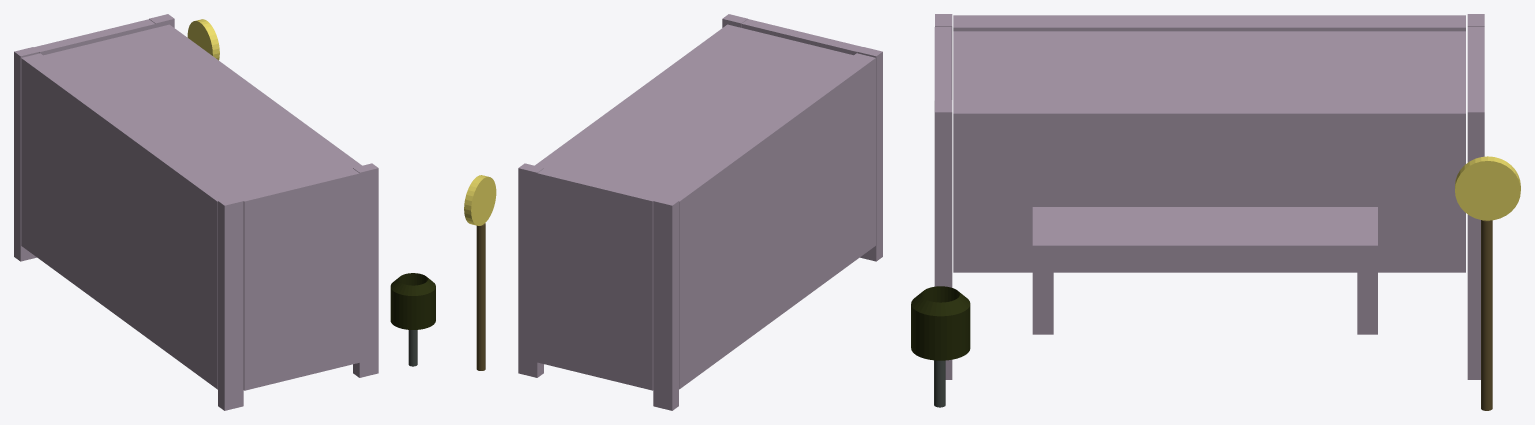
The model's file is busstopbettertry3.fbx.
The picture shows the model from 3 angles, left to right: view 1: azimuth 30°, elevation 25°; view 2: azimuth 150°, elevation 25°; view 3: azimuth 270°, elevation 25°; orthographic projection. The views are drawn at different scales.
Visible parts, largest first — view 1: Cube.007, Cube.008, Cube.001, Cube.006, Cube.004, Cylinder, Cube.005, Cube.002, Cylinder.003; view 2: Cube.007, Cube.008, Cube.002, Cube.005, Cube.003, Cube.006, Cylinder.002, Cylinder.003, Cube.001; view 3: Cube.007, Cube.008, Cube.009, Cylinder, Cube.004, Cylinder.003, Cube.003, Cube.010, Cube.011, Cylinder.002, Cube.001, Cube.002 (+1 smaller).
Part boxes in pixels (left/top/right/bottom): Cube.007: left=21, top=53, right=235, bottom=389; Cube.008: left=43, top=24, right=361, bottom=196; Cube.001: left=238, top=169, right=359, bottom=390; Cube.006: left=218, top=196, right=243, bottom=410; Cube.004: left=353, top=163, right=378, bottom=377; Cylinder: left=390, top=273, right=435, bottom=329; Cube.005: left=14, top=47, right=39, bottom=261; Cube.002: left=34, top=19, right=155, bottom=55; Cylinder.003: left=187, top=19, right=219, bottom=60; Cube.007: left=661, top=53, right=875, bottom=389; Cube.008: left=535, top=24, right=853, bottom=196; Cube.002: left=537, top=168, right=658, bottom=390; Cube.005: left=653, top=196, right=678, bottom=410; Cube.003: left=518, top=163, right=543, bottom=377; Cube.006: left=857, top=47, right=882, bottom=261; Cylinder.002: left=476, top=223, right=485, bottom=370; Cylinder.003: left=464, top=175, right=496, bottom=225; Cube.001: left=741, top=19, right=862, bottom=55; Cube.007: left=953, top=15, right=1465, bottom=272; Cube.008: left=953, top=31, right=1465, bottom=128; Cube.009: left=1053, top=207, right=1357, bottom=259; Cylinder: left=911, top=286, right=970, bottom=360; Cube.004: left=935, top=100, right=952, bottom=379; Cylinder.003: left=1455, top=156, right=1520, bottom=220; Cube.003: left=1467, top=100, right=1484, bottom=379; Cube.010: left=1032, top=207, right=1053, bottom=334; Cube.011: left=1357, top=207, right=1377, bottom=334; Cylinder.002: left=1481, top=220, right=1492, bottom=410; Cube.001: left=934, top=27, right=951, bottom=286; Cube.002: left=1467, top=27, right=1484, bottom=99.
Size of the model in its own units: 245 by 233 by 472.
